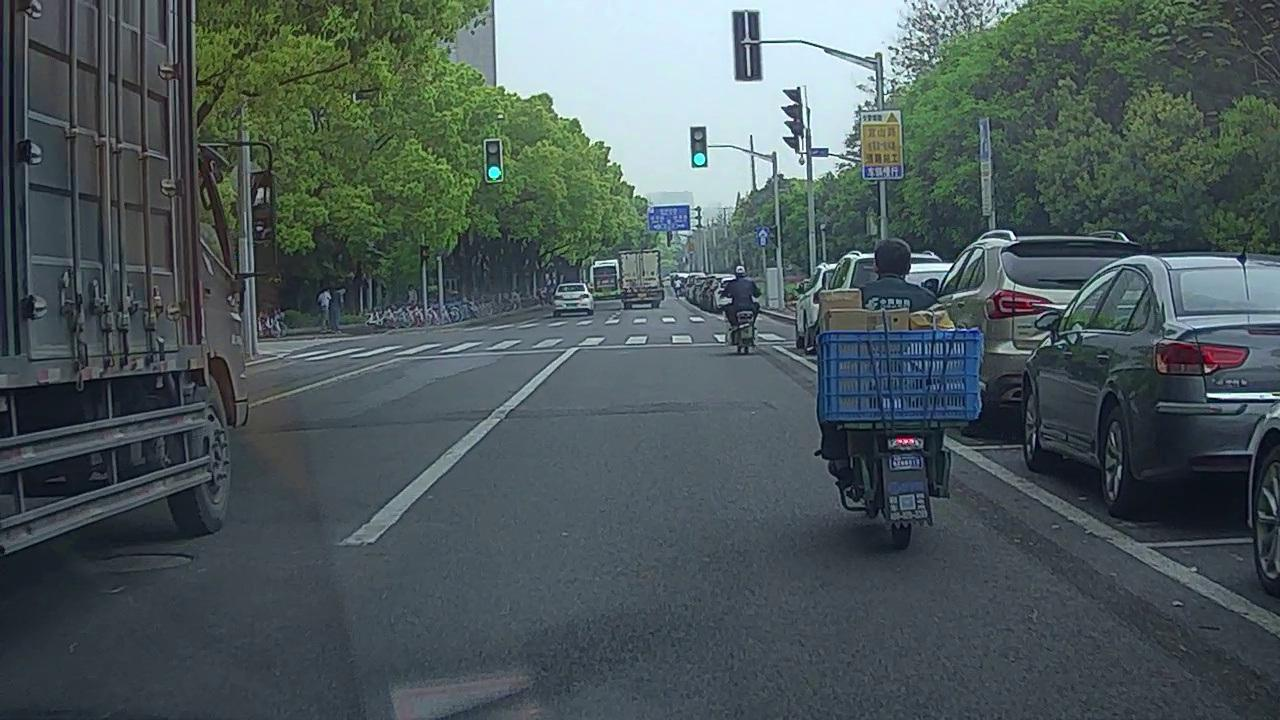traffic_light: (688, 126, 708, 166), (484, 141, 502, 181)
